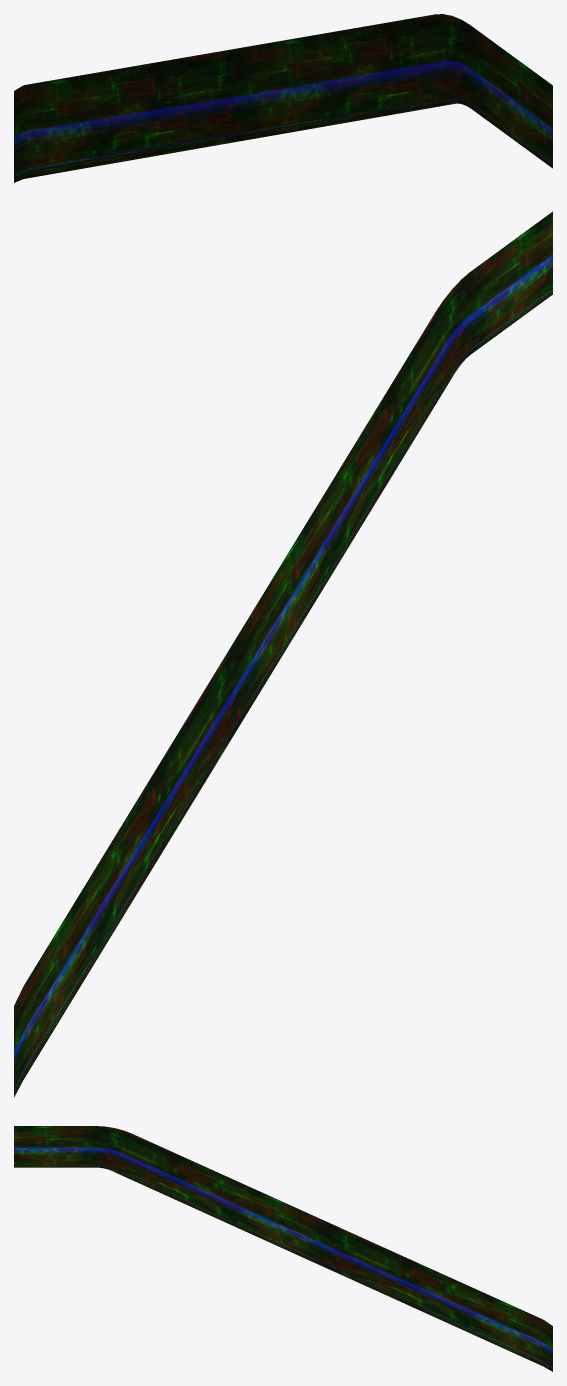
The model's file is Club_Barrier_01.FBX.
3 renders of one model, top to bottom at view 1: azimuth 30°, elevation 25°; view 2: azimuth 150°, elevation 25°; view 3: azimuth 270°, elevation 25°, orthographic. The views are drawn at different scales.
Parts seen in each view (by area): view 1: Club_Barrier_01; view 2: Club_Barrier_01; view 3: Club_Barrier_01.
Boxes of the visible parts, x1,y1,x2,y2 form: Club_Barrier_01: (14,14,552,182); Club_Barrier_01: (14,211,552,1097); Club_Barrier_01: (14,1126,552,1371).
Bounding box in the file's own units: 1.01e-06 × 1.53 × 3.04.
